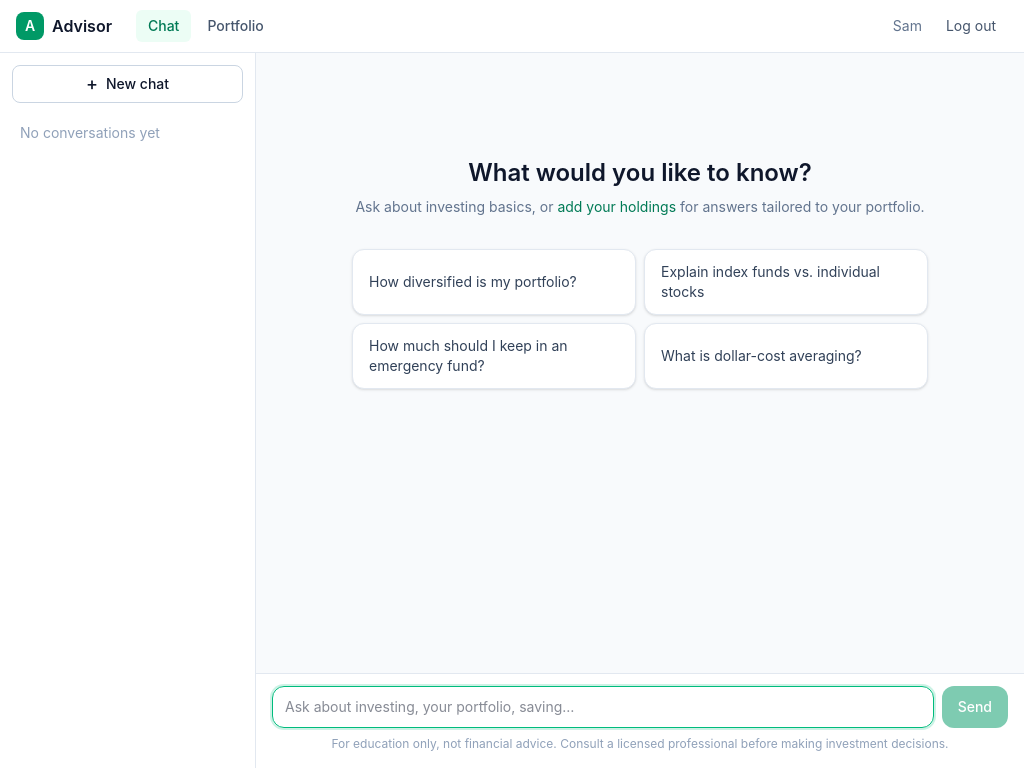
Test: chat › starts a conversation and shows the streamed reply
The image size is (1024, 768).
Type "How do I diversify?" into the text box with placeholder "Ask about investing, your portfolio, saving…".
click(603, 707); type("How do I diversify?")  # box [272,686,934,728]
Then press Enter
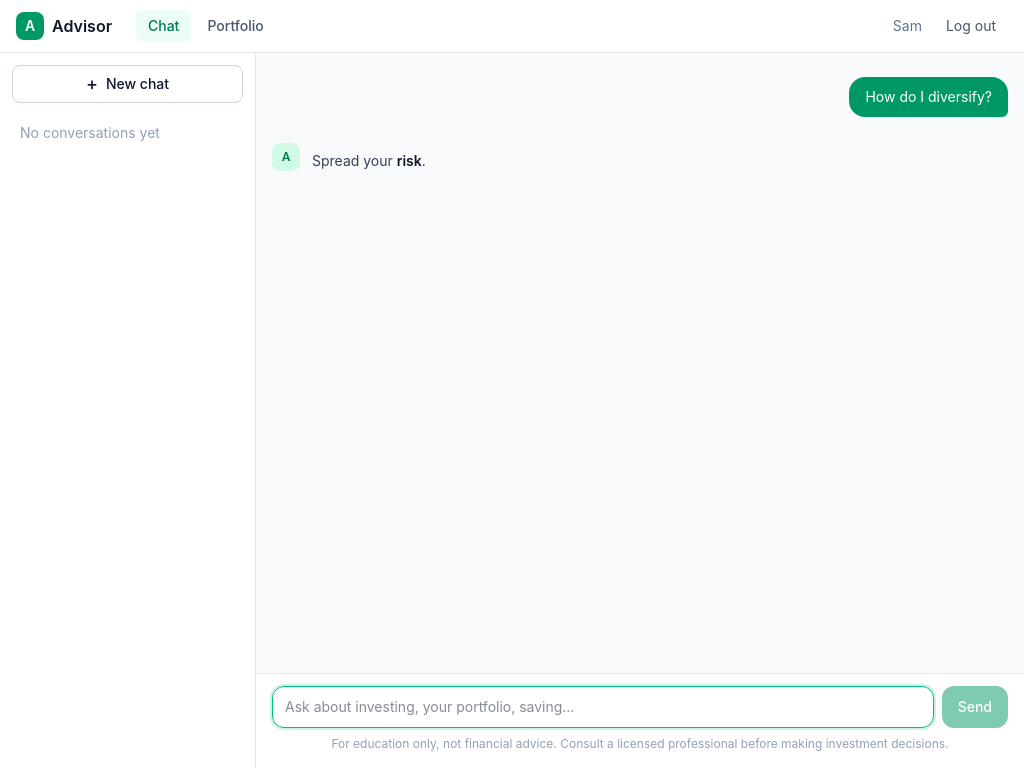
Now the text "How do I diversify?" is shown, box [850,77,1008,117]
Now the text "risk" is shown, box [397,152,422,169]
